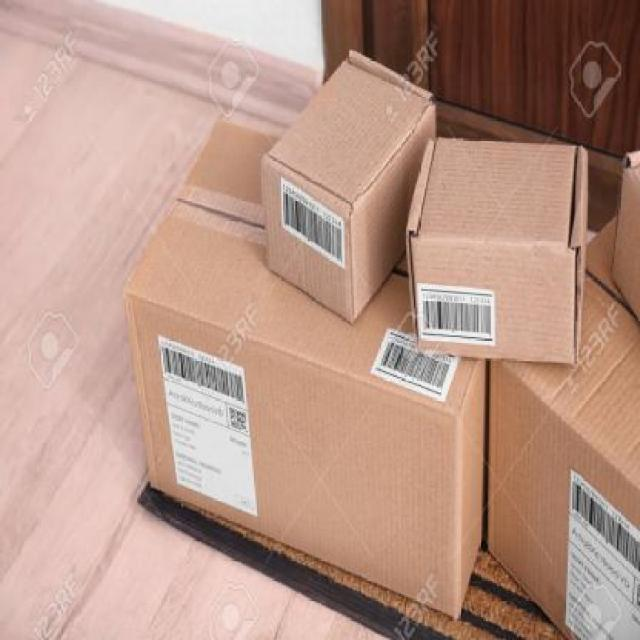box: (122, 120, 482, 616), (487, 216, 640, 639), (259, 54, 434, 327), (405, 131, 590, 368)
